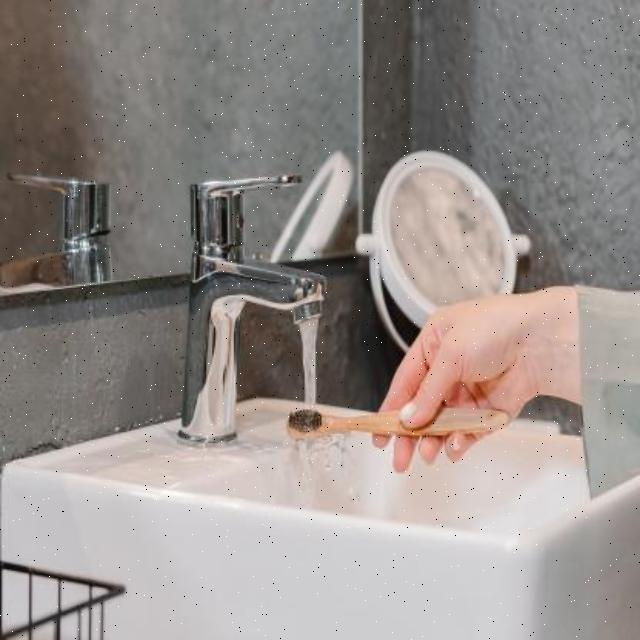toothbrush: (281, 388, 514, 452)
